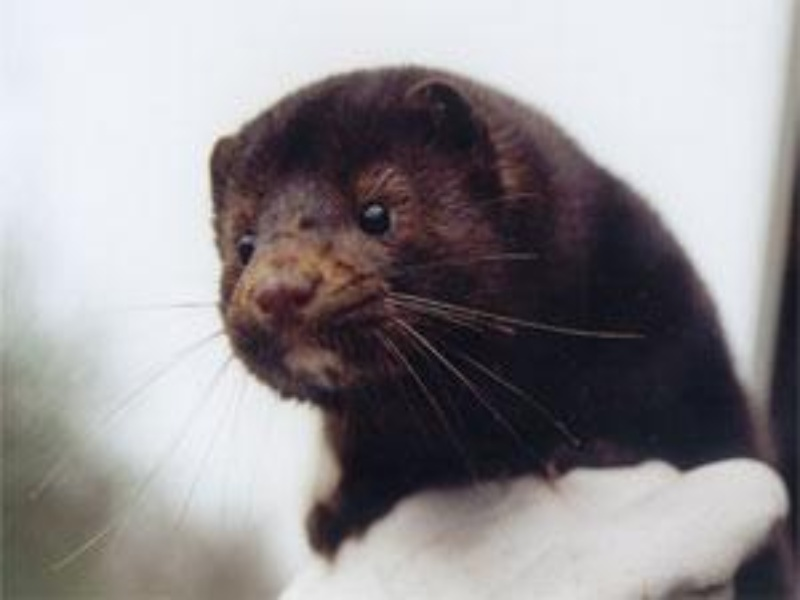minkish: (203, 62, 797, 596)
